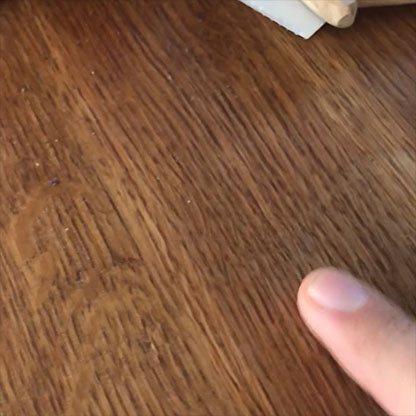fingertip: (278, 249, 391, 358)
